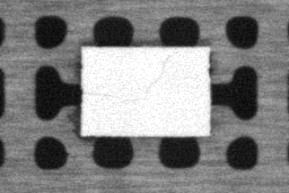DIE_CRACK: (142, 54, 174, 91), (86, 90, 123, 99)
